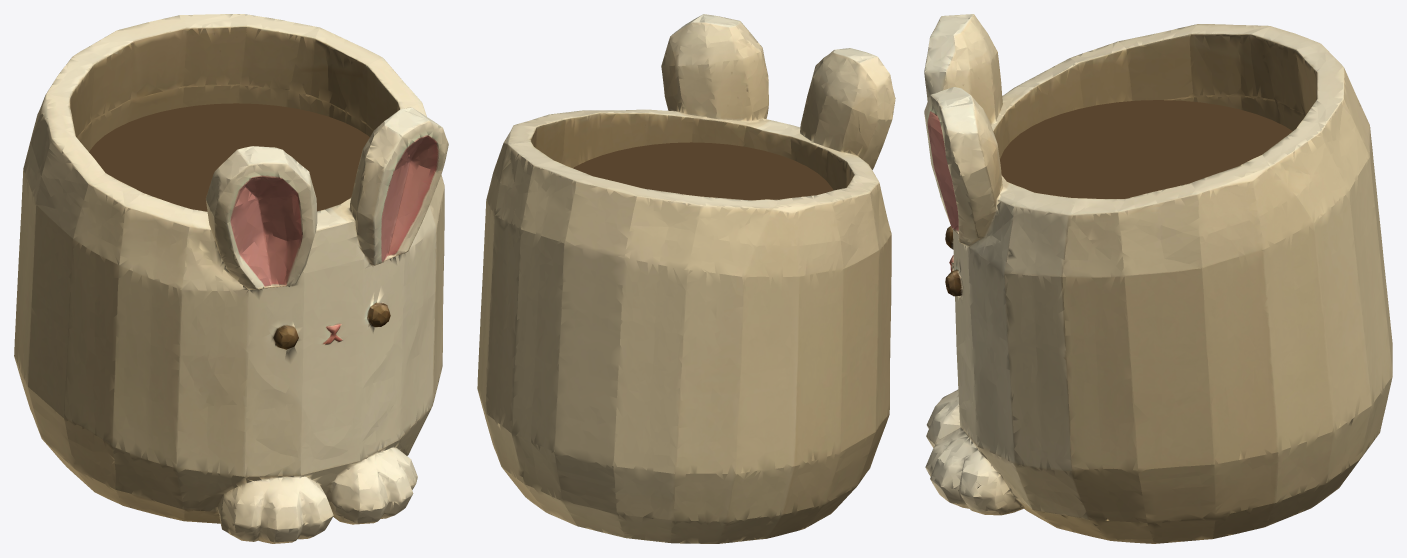
File: rabbit-pot.glb
The picture shows the model from 3 angles, left to right: view 1: azimuth 30°, elevation 25°; view 2: azimuth 150°, elevation 25°; view 3: azimuth 270°, elevation 25°; orthographic projection. The views are drawn at different scales.
Visible parts, largest first — view 1: rabbit-pot; view 2: rabbit-pot; view 3: rabbit-pot.
Boxes of the visible parts, bbox=[...] form: rabbit-pot: bbox=[14, 14, 448, 543]; rabbit-pot: bbox=[477, 14, 895, 543]; rabbit-pot: bbox=[924, 14, 1392, 543].
Size of the model in its own units: 0.9403 by 1 by 0.9977.
2 materials, 1 textured.
